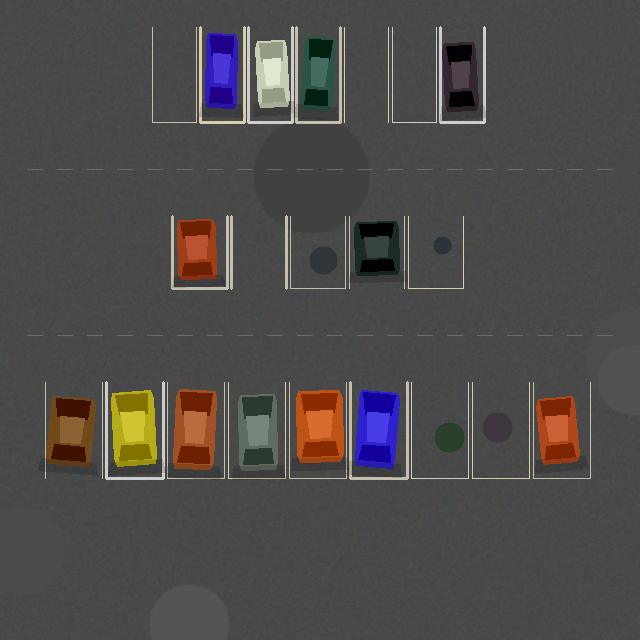space-empty: (411, 382, 468, 478), (472, 382, 529, 478), (152, 27, 196, 122), (344, 27, 388, 122), (392, 27, 436, 122), (231, 216, 286, 288), (290, 216, 345, 288), (408, 216, 463, 288)
space-occupied: (45, 382, 102, 478), (106, 382, 163, 478), (167, 382, 224, 478), (228, 382, 285, 478), (289, 382, 346, 478), (350, 382, 407, 478), (533, 382, 590, 478), (200, 27, 244, 122), (248, 27, 292, 122), (296, 27, 340, 122), (440, 27, 484, 122), (172, 216, 227, 288), (349, 216, 404, 288)
